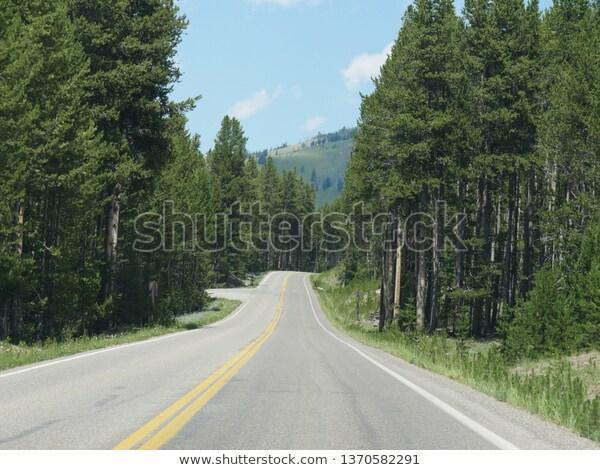language: (172, 451, 426, 468)
watersign: (130, 198, 468, 261)
